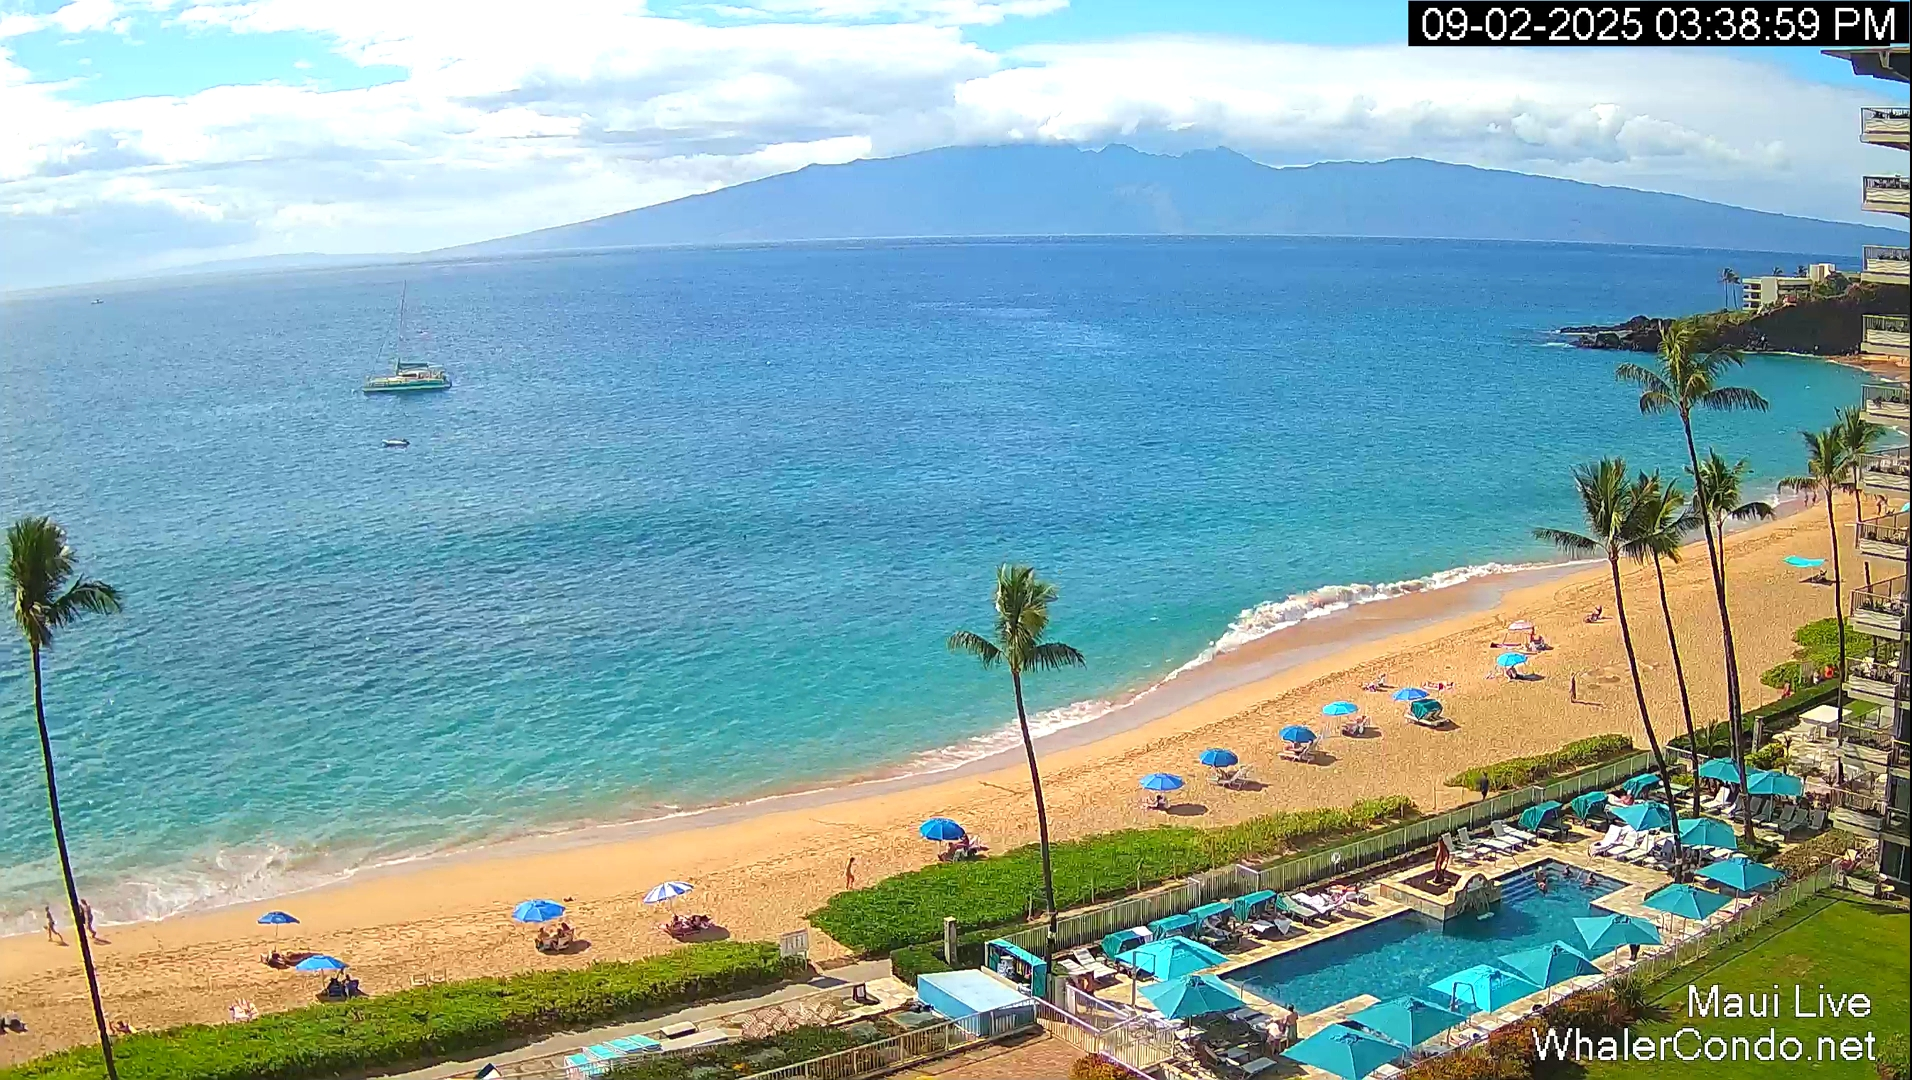boat: (362, 280, 452, 394), (483, 1033, 640, 1079), (362, 357, 452, 393), (90, 298, 105, 304)
person: (44, 906, 64, 943), (1283, 1004, 1299, 1048), (79, 899, 97, 938), (1266, 1018, 1281, 1056), (556, 922, 575, 950), (844, 857, 857, 890), (1556, 1022, 1568, 1051), (537, 926, 549, 949), (1480, 772, 1489, 802)
